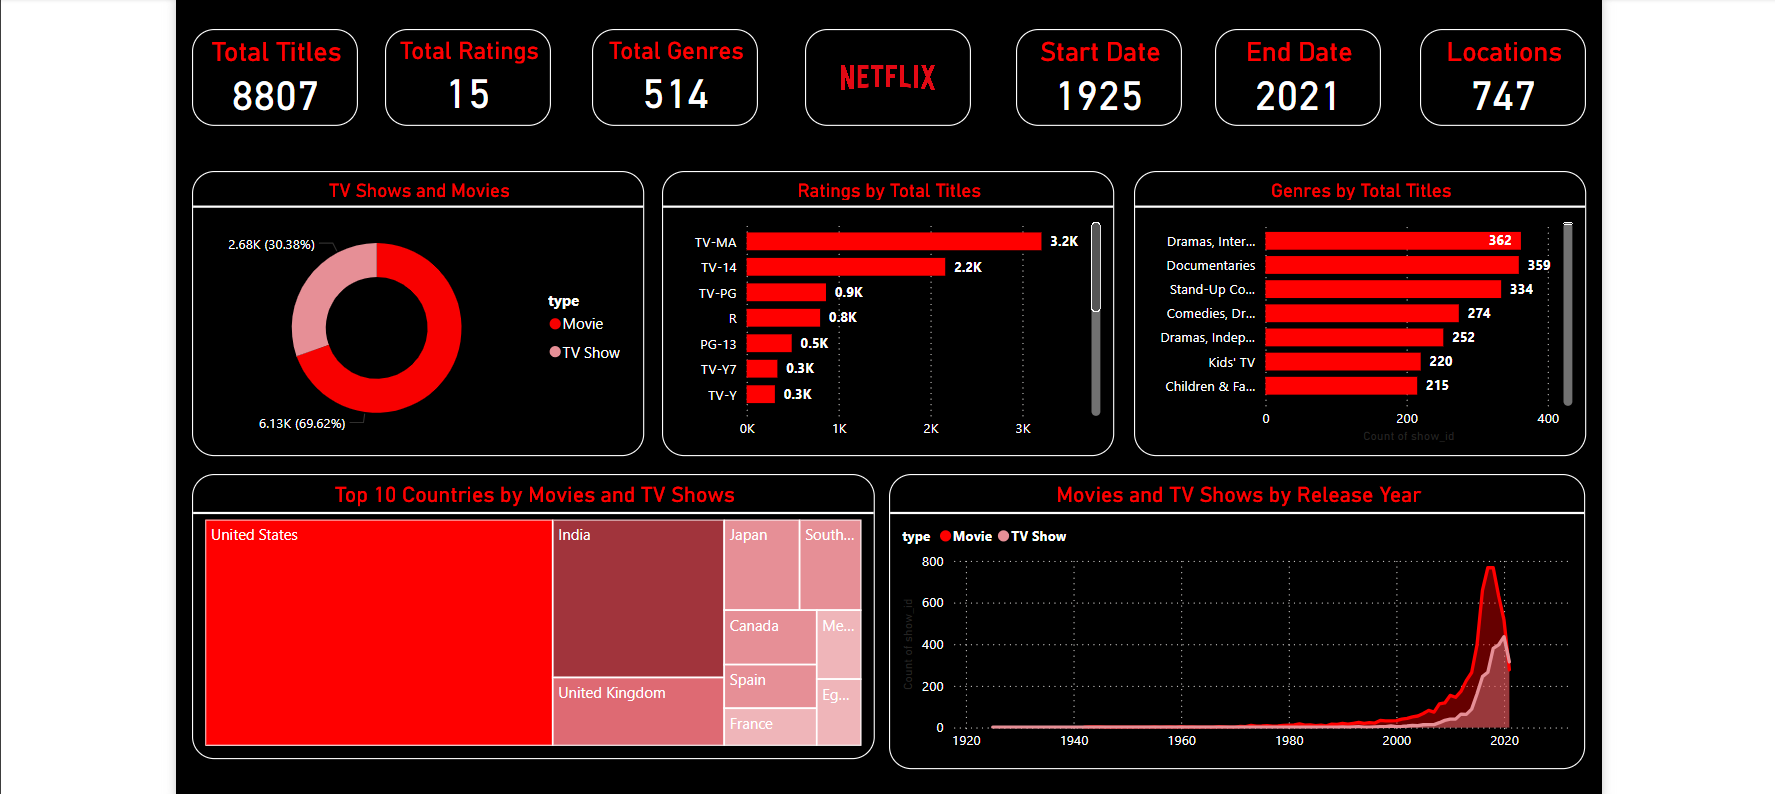

What the dashboard file says about the page in this screenshot:
{"tool":"powerbi","page":{"name":"Page 1","canvas":[1280,720],"ordinal":0},"visuals":[{"type":"donutChart","title":"TV Shows and Movies","fields":{"Y":["CountNonNull(netflix_titles.show_id)"],"Category":["netflix_titles.type"]},"box":[14.6,155.6,405.6,255.8],"z":0},{"type":"barChart","title":"Ratings by Total Titles","fields":{"Category":["netflix_titles.rating"],"Y":["CountNonNull(netflix_titles.show_id)"]},"box":[436.7,155.6,405.6,255.8],"z":1000},{"type":"barChart","title":"Genres by Total Titles","fields":{"Category":["netflix_titles.listed_in"],"Y":["CountNonNull(netflix_titles.show_id)"]},"box":[859.8,155.6,405.6,255.8],"z":2000},{"type":"treemap","title":"Top 10 Countries by Movies and TV Shows","fields":{"Group":["netflix_titles.country"],"Values":["Count(netflix_titles.show_id)"]},"box":[14.6,427,612.8,255.8],"z":4000},{"type":"image","box":[565.1,28.2,148.8,86.6],"z":5000},{"type":"card","title":"Total Titles","fields":{"Values":["Count(netflix_titles.show_id)"]},"box":[14.6,28.2,148.8,86.6],"z":6004},{"type":"card","title":"Total Ratings","fields":{"Values":["Count(netflix_titles.rating)"]},"box":[187.7,28.2,148.8,86.6],"z":6005},{"type":"card","title":"Total Genres","fields":{"Values":["Count(netflix_titles.listed_in)"]},"box":[373.5,28.2,148.8,86.6],"z":6006},{"type":"card","title":"Start Date","fields":{"Values":["Min(netflix_titles.release_year)"]},"box":[753.8,28.2,148.8,86.6],"z":6007},{"type":"card","title":"End Date","fields":{"Values":["Max(netflix_titles.release_year)"]},"box":[932.8,28.2,148.8,86.6],"z":6008},{"type":"card","title":"Locations","fields":{"Values":["Count(netflix_titles.country)"]},"box":[1116.6,28.2,148.8,86.6],"z":6009},{"type":"areaChart","title":"Movies and TV Shows by Release Year","fields":{"Series":["netflix_titles.type"],"Y":["Count(netflix_titles.show_id)"],"Category":["netflix_titles.release_year"]},"box":[640,427,625.4,264.6],"z":6010}]}

Visuals, with their boxes in screenshot pixels (x1, y1, x2, y2):
"TV Shows and Movies" donutChart: BBox(183, 166, 641, 455)
"Ratings by Total Titles" barChart: BBox(659, 166, 1117, 455)
"Genres by Total Titles" barChart: BBox(1137, 166, 1595, 455)
"Top 10 Countries by Movies and TV Shows" treemap: BBox(183, 473, 875, 762)
image: BBox(804, 23, 972, 120)
"Total Titles" card: BBox(183, 23, 351, 120)
"Total Ratings" card: BBox(378, 23, 546, 120)
"Total Genres" card: BBox(588, 23, 756, 120)
"Start Date" card: BBox(1017, 23, 1185, 120)
"End Date" card: BBox(1220, 23, 1388, 120)
"Locations" card: BBox(1427, 23, 1595, 120)
"Movies and TV Shows by Release Year" areaChart: BBox(889, 473, 1595, 772)
